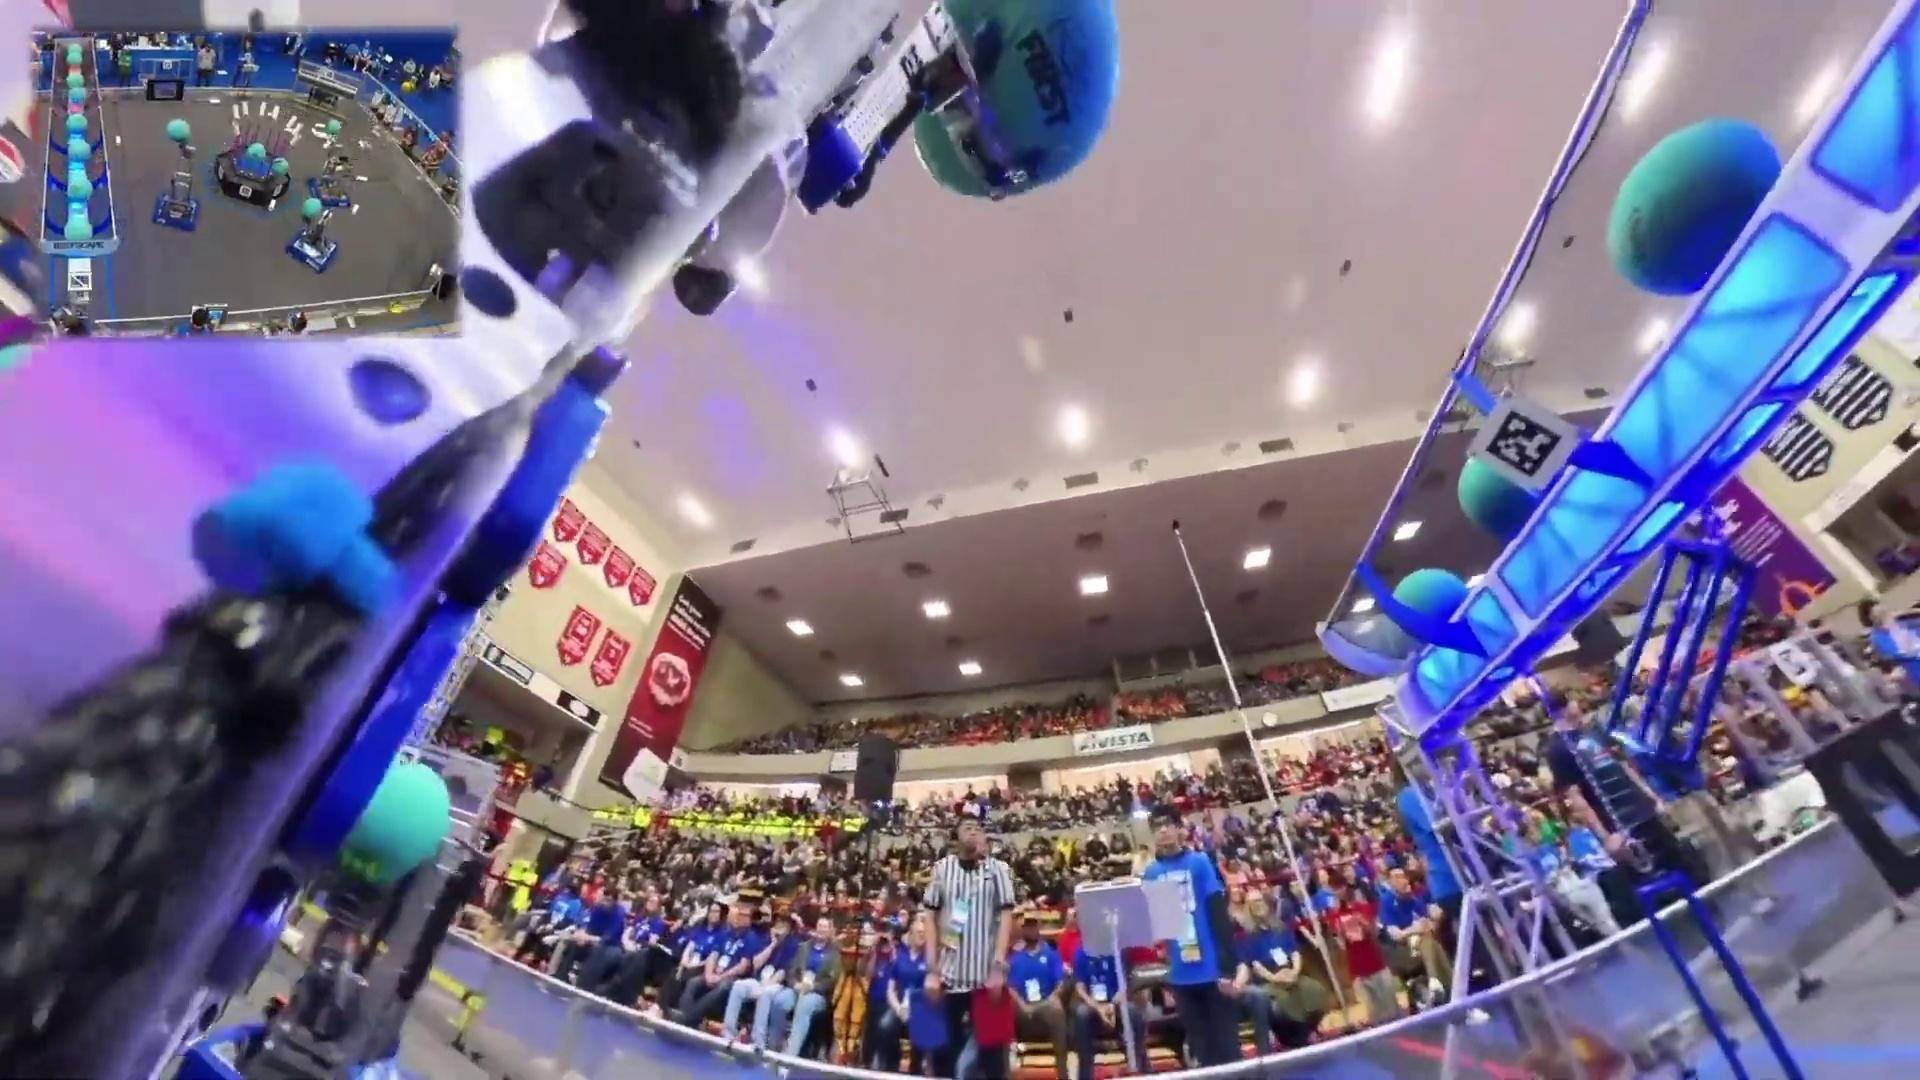robot: (174, 745, 489, 1080), (150, 144, 200, 236), (286, 208, 344, 272), (311, 137, 355, 211)
